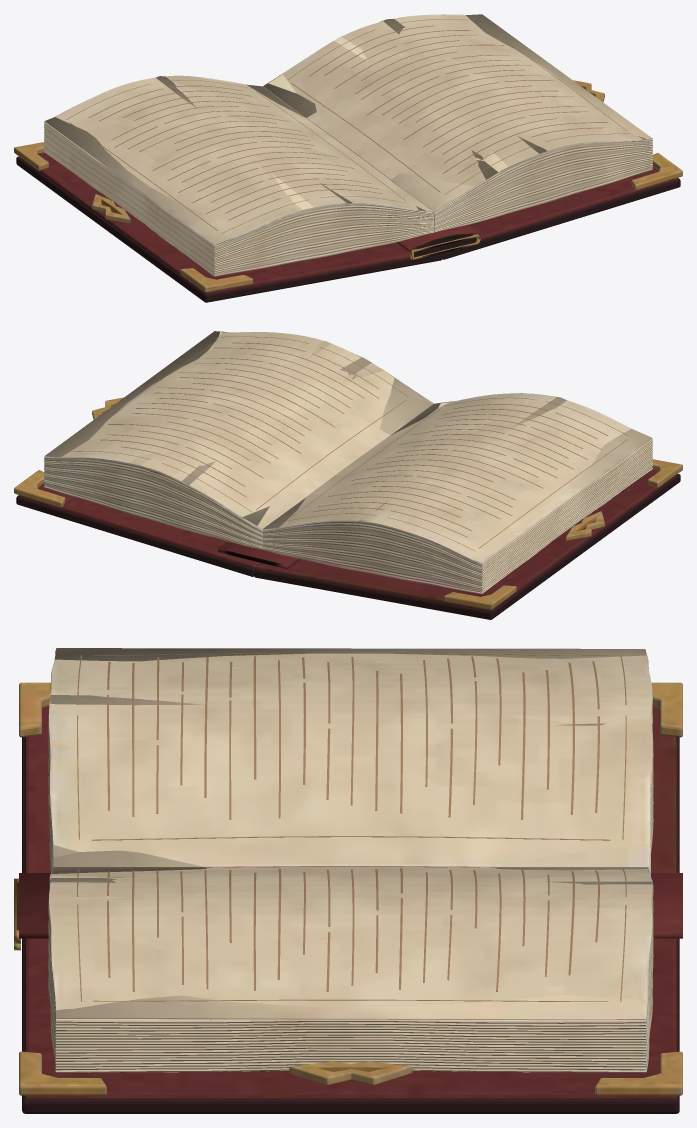
The model's file is book_open.glb.
3 views of the same model, one above another, from view 1: azimuth 30°, elevation 25°; view 2: azimuth 150°, elevation 25°; view 3: azimuth 270°, elevation 25° (orthographic). The views are drawn at different scales.
Parts seen in each view (by area): view 1: OpenBook_Surfaces, OpenBook_Writing; view 2: OpenBook_Surfaces, OpenBook_Writing; view 3: OpenBook_Surfaces, OpenBook_Writing.
Part boxes in pixels (x1,y1,x2,y2): OpenBook_Surfaces: [14, 14, 682, 302]; OpenBook_Writing: [66, 19, 630, 233]; OpenBook_Surfaces: [14, 331, 682, 619]; OpenBook_Writing: [66, 336, 630, 551]; OpenBook_Surfaces: [14, 648, 682, 1113]; OpenBook_Writing: [77, 653, 626, 1001].
Size of the model in its own units: 0.6884 by 0.1049 by 0.4614.
Materials: 2 (1 with a texture image).
